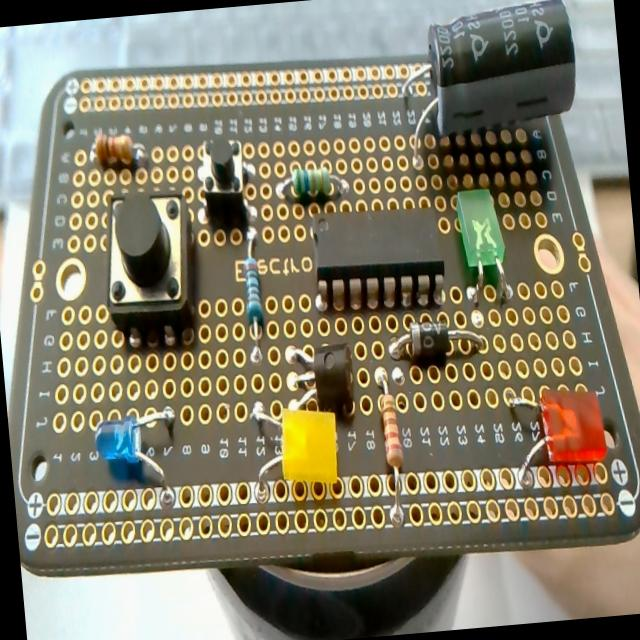Electrolytic capacitor: (390, 0, 588, 164)
IC: (304, 202, 449, 308)
diode: (383, 316, 482, 365)
led: (502, 382, 610, 476), (244, 402, 344, 496), (89, 395, 185, 492), (454, 186, 506, 273)
resistor: (374, 366, 408, 526), (238, 227, 268, 346), (276, 165, 350, 208), (89, 125, 147, 171)
switch: (95, 180, 201, 349), (194, 132, 252, 224)
transistor: (282, 339, 358, 420)
